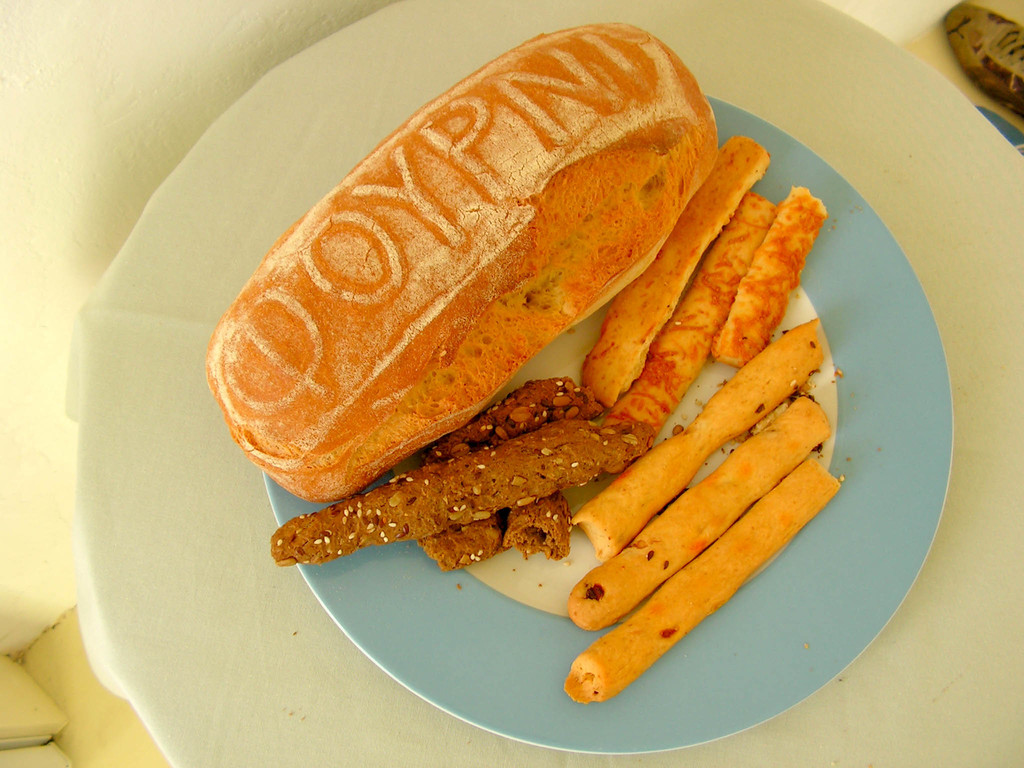sandwich: (198, 18, 726, 503)
